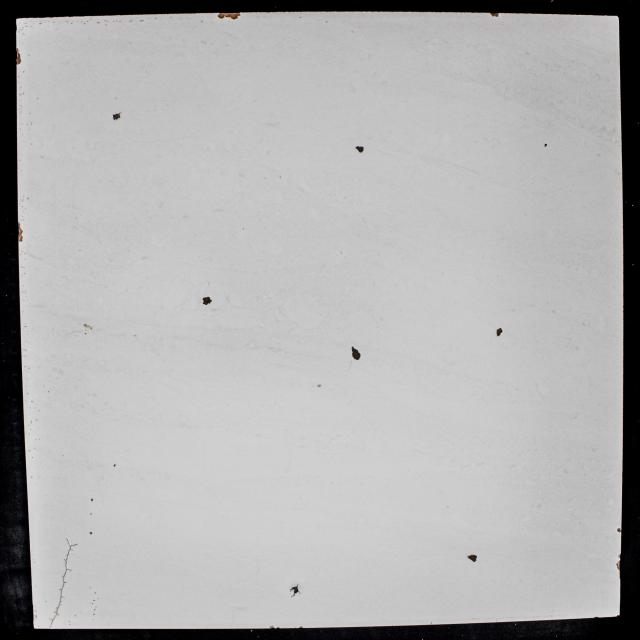edge-chipping: (230, 12, 241, 20), (217, 12, 225, 20), (490, 12, 499, 18), (616, 560, 621, 570), (16, 58, 22, 66), (16, 48, 21, 57), (18, 235, 23, 242), (18, 230, 23, 235), (226, 12, 230, 18), (617, 528, 622, 532), (268, 626, 274, 628), (18, 222, 20, 228), (618, 554, 621, 558), (594, 616, 599, 618), (299, 626, 303, 628), (617, 614, 620, 616), (18, 228, 22, 229)
hole: (290, 583, 302, 598), (351, 346, 362, 361), (111, 111, 122, 121), (202, 296, 213, 306), (467, 554, 478, 563), (355, 145, 365, 154), (496, 328, 503, 337), (544, 143, 548, 147), (89, 531, 93, 535), (90, 498, 94, 502), (113, 464, 116, 467), (90, 513, 92, 515)
line: (61, 537, 79, 588), (48, 589, 65, 629)
